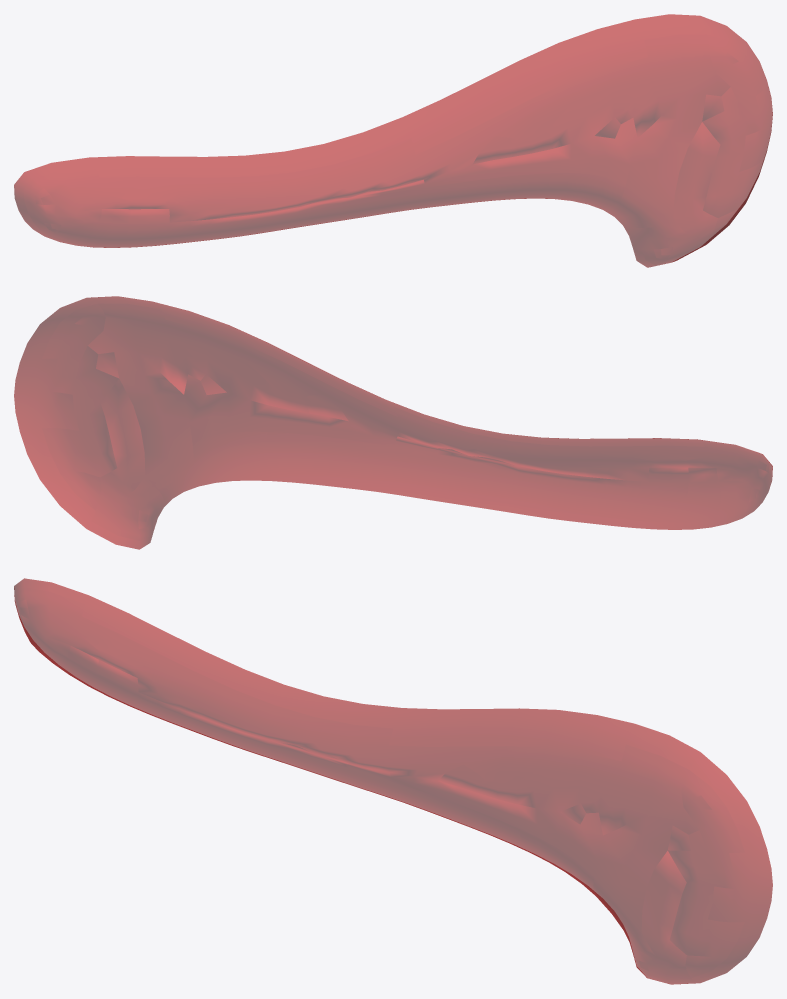
Rendered from Cube_002_MatTransRed_0.dae.
3 renders of one model, top to bottom at view 1: azimuth 30°, elevation 25°; view 2: azimuth 150°, elevation 25°; view 3: azimuth 330°, elevation 25°, orthographic.
Visible parts, largest first — view 1: Cube_002_MatTransRed_0; view 2: Cube_002_MatTransRed_0; view 3: Cube_002_MatTransRed_0.
Boxes of the visible parts, x1,y1,x2,y2 form: Cube_002_MatTransRed_0: [14, 14, 772, 267]; Cube_002_MatTransRed_0: [14, 296, 772, 549]; Cube_002_MatTransRed_0: [14, 578, 772, 984].
Size of the model in its own units: 0.1758 by 0.0558 by 0.007.
